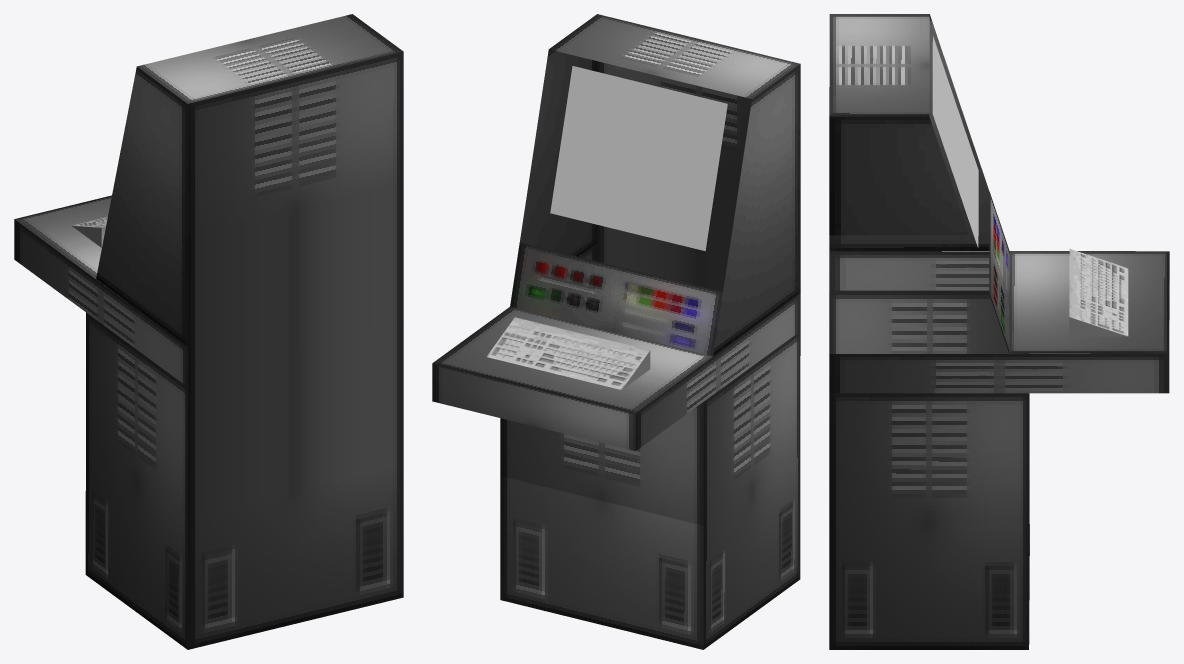
File: console_3.glb
The picture shows the model from 3 angles, left to right: view 1: azimuth 30°, elevation 25°; view 2: azimuth 150°, elevation 25°; view 3: azimuth 270°, elevation 25°; orthographic projection. The views are drawn at different scales.
Parts seen in each view (by area): view 1: Object; view 2: Object; view 3: Object.
Part boxes in pixels (x1,y1,x2,y2): Object: [14, 14, 403, 649]; Object: [432, 14, 800, 649]; Object: [829, 14, 1169, 649].
Size of the model in its own units: 0.7377 by 1.78 by 1.03.
20 materials, 20 textured.
